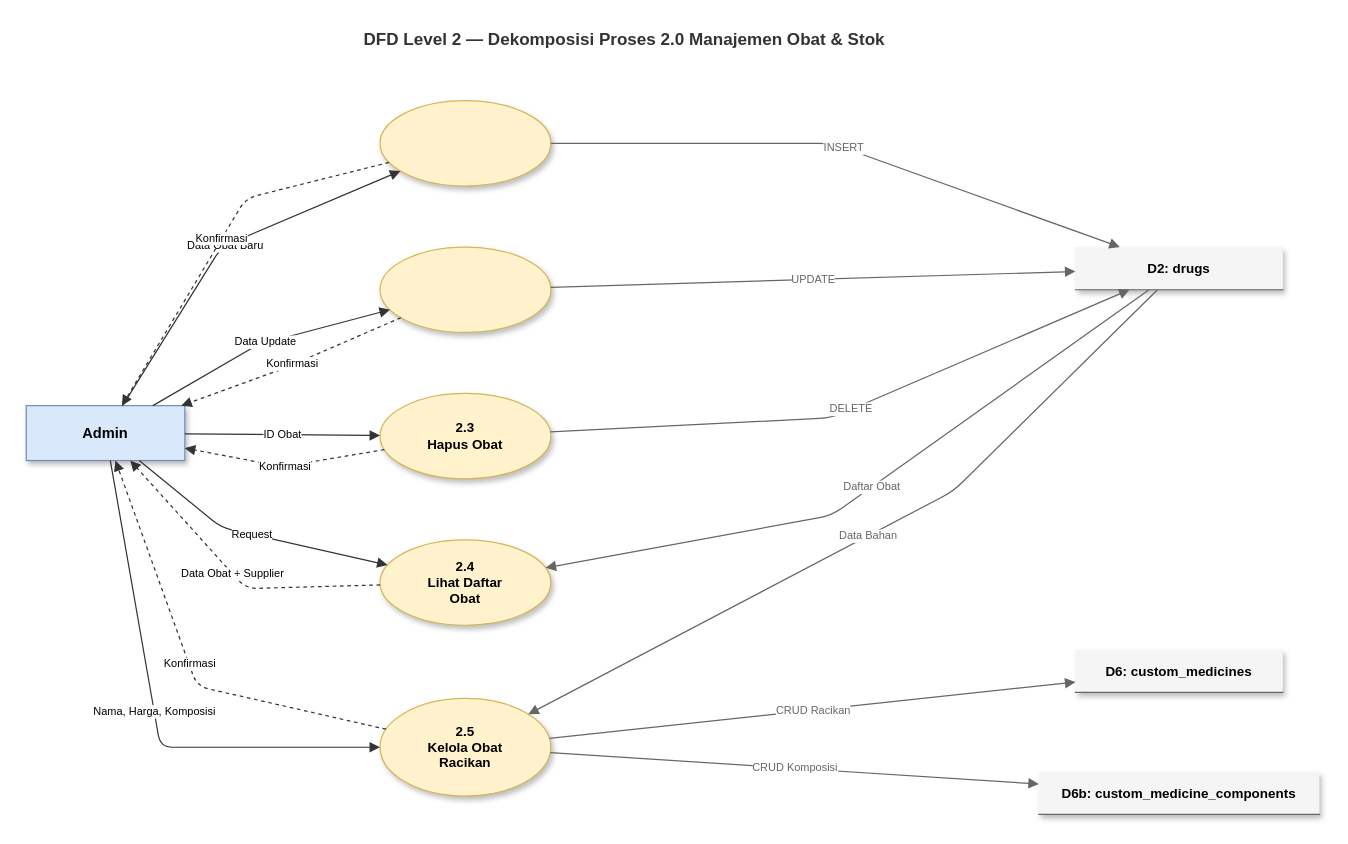
This 1348x844 diagram has some shape labels left out. Here are the shapes that lost their labels. From the top down, the centre of each, then its label:
pixel 466 145: 2.1 Tambah Obat
pixel 466 291: 2.2 Edit Obat
